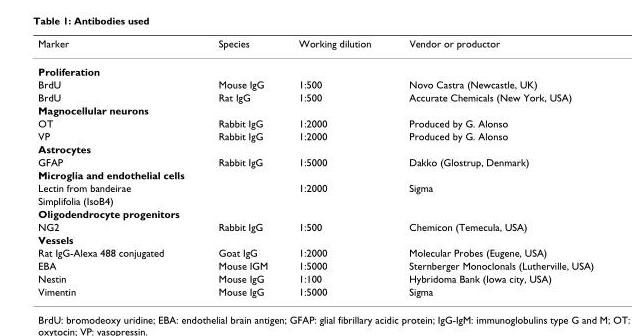table: (37, 37, 593, 297)
table column: (389, 37, 593, 297), (37, 37, 190, 297), (282, 37, 389, 297), (190, 37, 282, 297)
table column header: (37, 37, 593, 56)
table projected row header: (37, 56, 593, 77), (37, 103, 593, 116), (37, 142, 593, 155), (37, 168, 593, 181), (37, 206, 593, 219), (37, 232, 593, 245), (37, 194, 593, 206)
table row: (37, 56, 593, 77), (37, 37, 593, 56), (37, 77, 593, 90), (37, 90, 593, 103), (37, 103, 593, 116), (37, 116, 593, 129), (37, 129, 593, 142), (37, 142, 593, 155), (37, 155, 593, 168), (37, 168, 593, 181), (37, 181, 593, 194), (37, 206, 593, 219), (37, 219, 593, 232), (37, 232, 593, 245), (37, 245, 593, 258), (37, 258, 593, 271), (37, 271, 593, 284), (37, 284, 593, 297), (37, 194, 593, 206)
